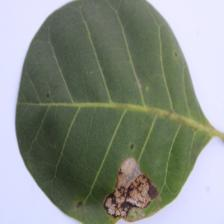leaf miner: (13, 0, 223, 223), (102, 156, 159, 220)
